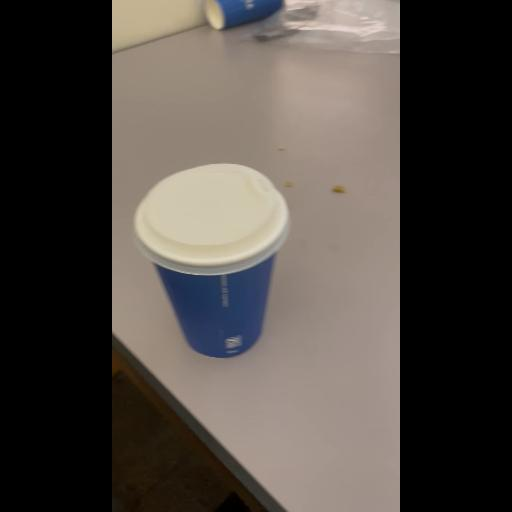lp_paper_cup: (136, 163, 290, 357)
